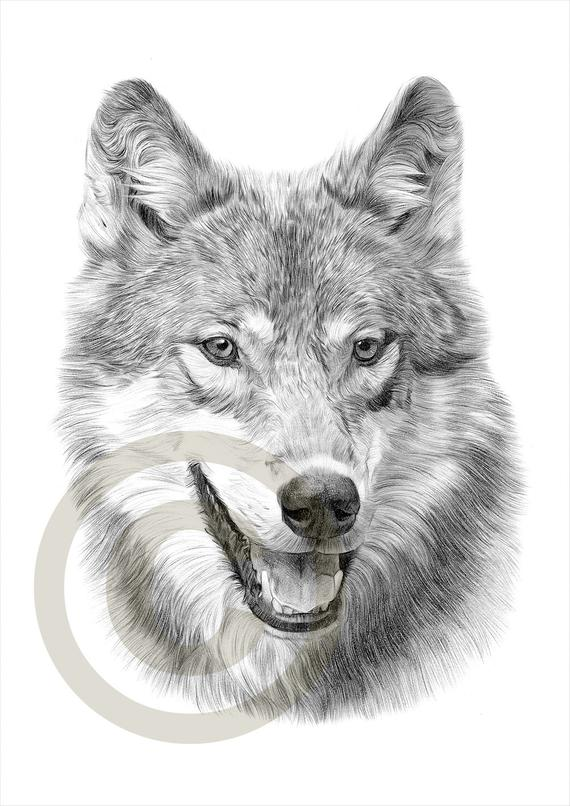Lobo: (82, 84, 502, 719)
